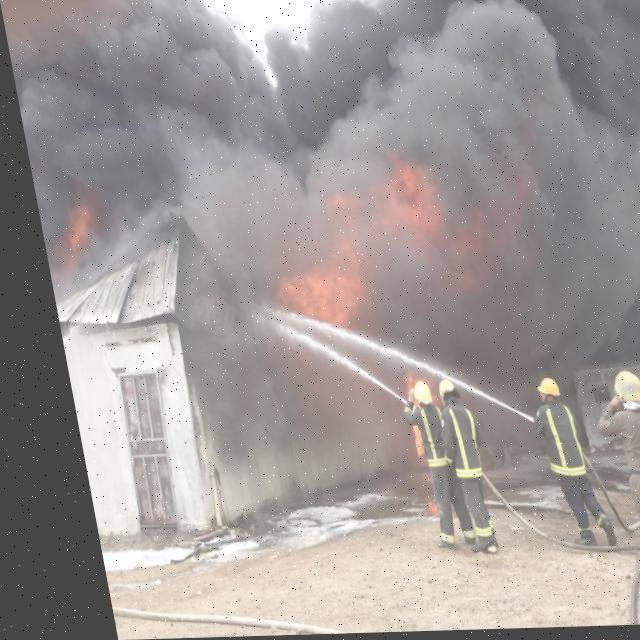Fire: (248, 165, 534, 339)
